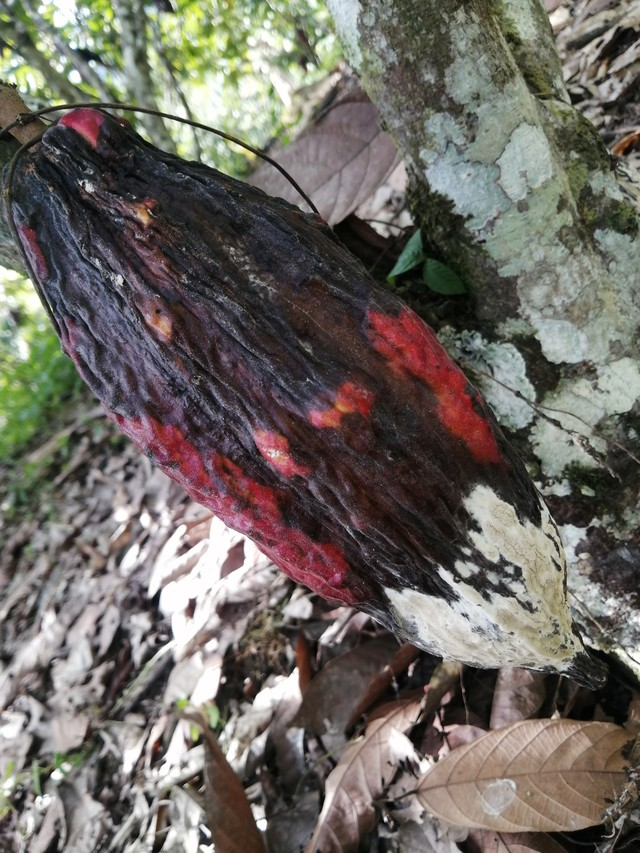moniliophthora roreri: (0, 94, 626, 703)
